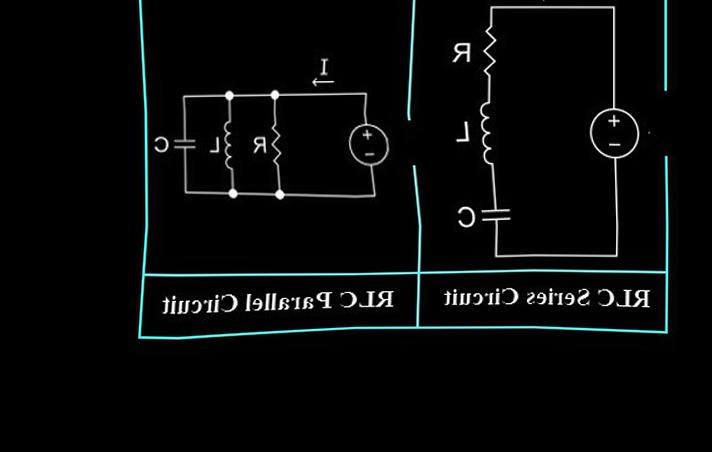Battery: (566, 94, 651, 178), (333, 110, 402, 181)
